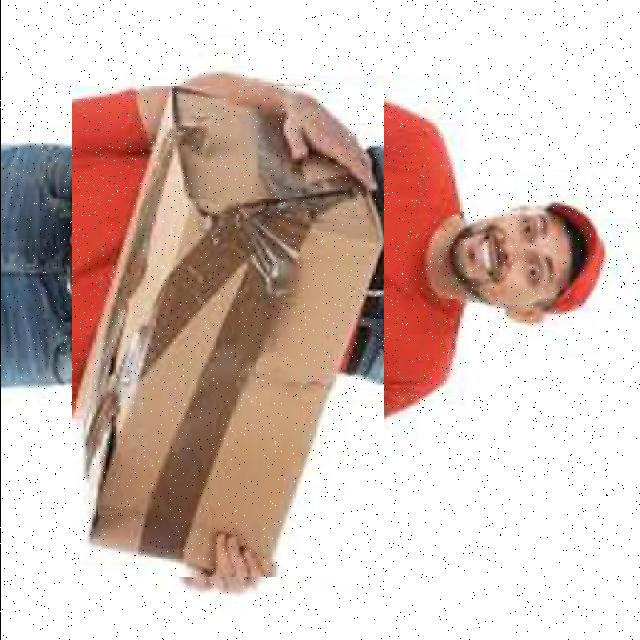normal: (71, 86, 383, 577)
